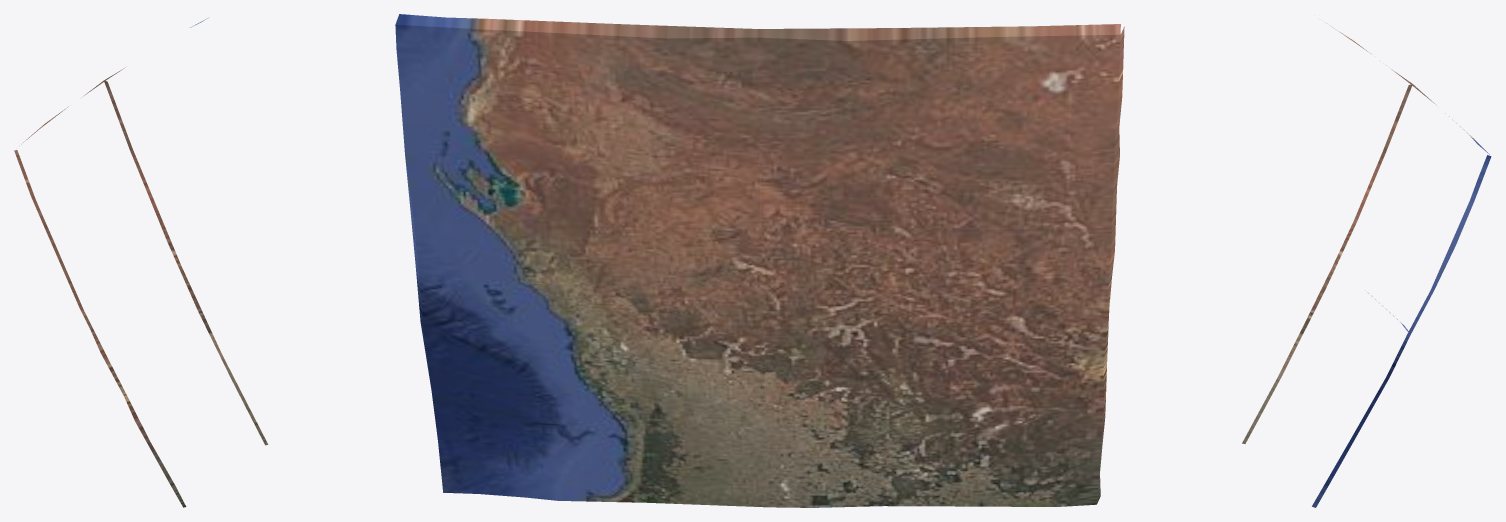
The picture shows the model from 3 angles, left to right: view 1: azimuth 30°, elevation 25°; view 2: azimuth 150°, elevation 25°; view 3: azimuth 270°, elevation 25°; orthographic projection. The views are drawn at different scales.
Bounding box in the file's own units: 1258779 × 1119023 × 1051215.
1 material, 1 textured.
